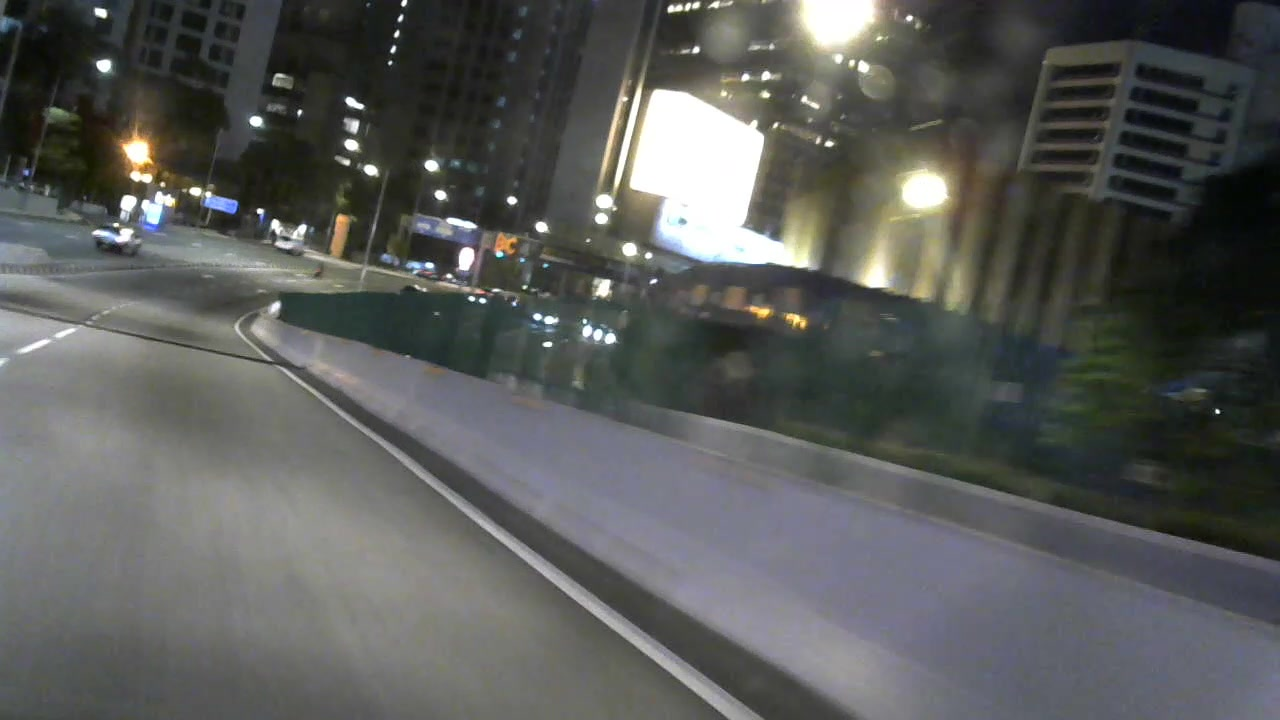Car: (90, 222, 153, 260), (272, 235, 313, 259)
